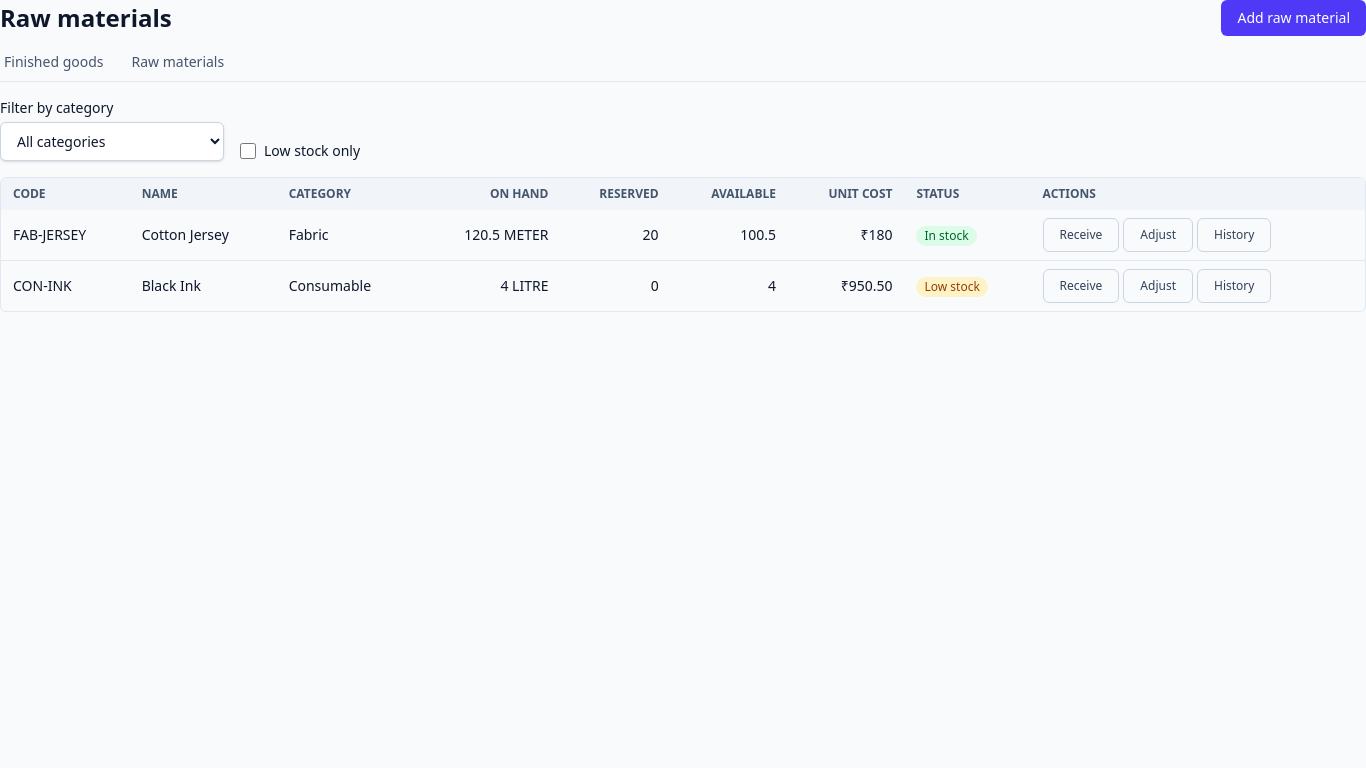
it: RawMaterialsPage › shows a duplicate-code conflict from the server inside the form
Click the button "Add raw material" at (1294, 18), box x1=1221 y1=0 x2=1365 y2=36
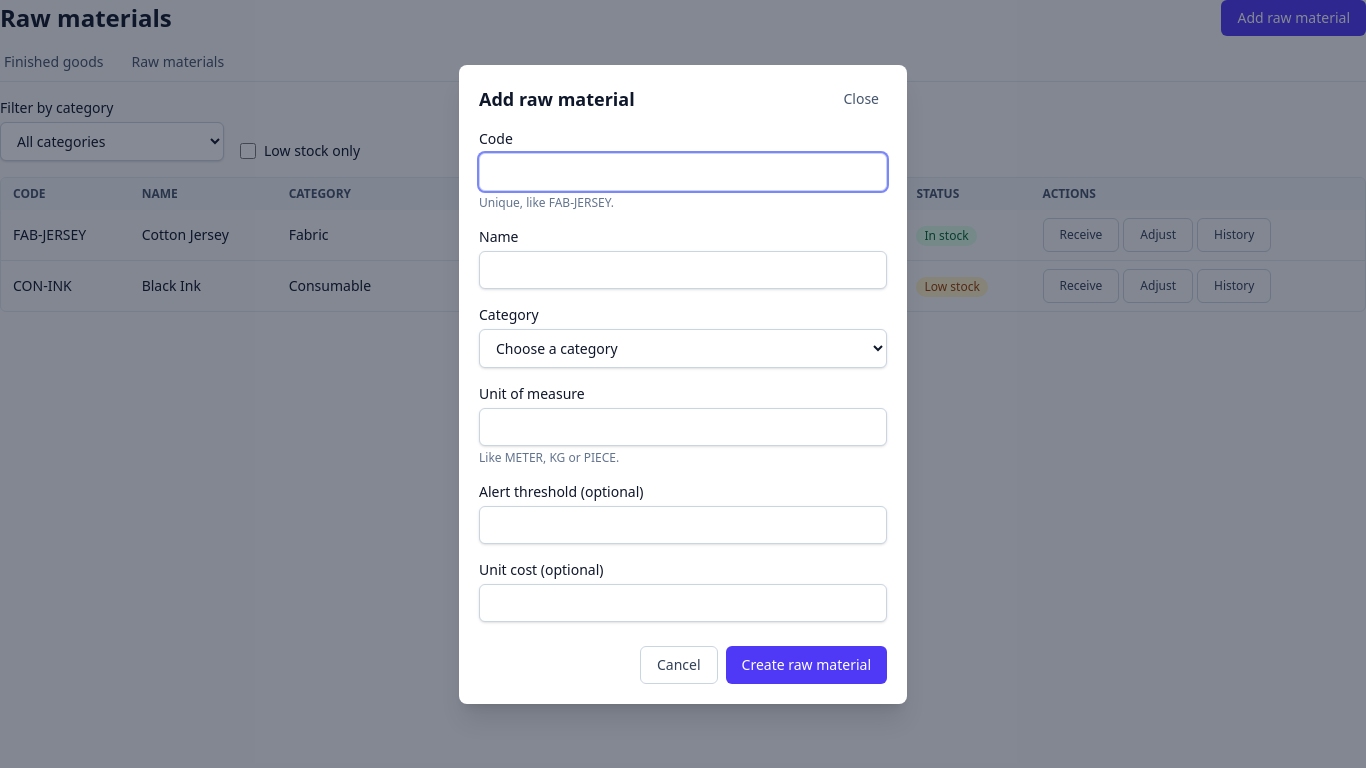
Type "FAB-JERSEY" into the field labelled "Code" at (683, 172), box x1=479 y1=152 x2=887 y2=190
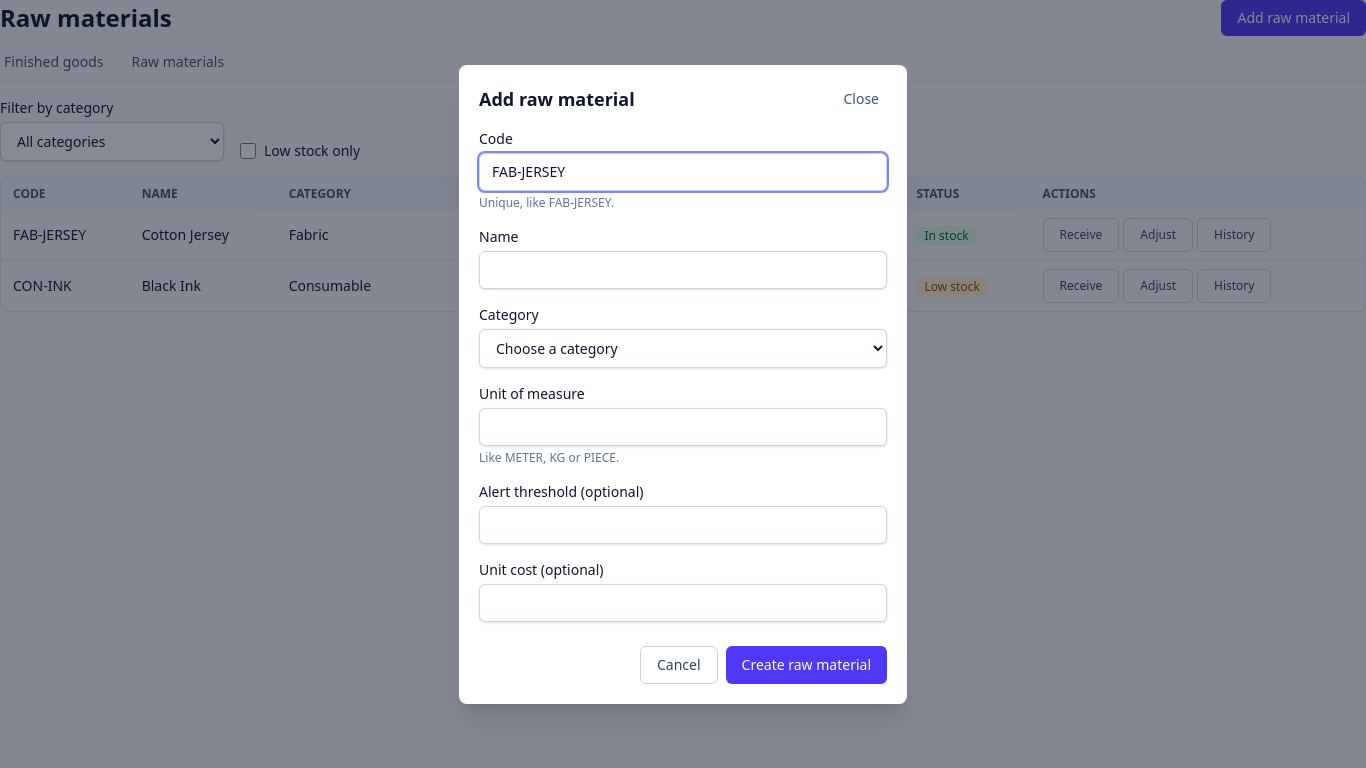
Type "Jersey again" into the field labelled "Name" at (683, 270), box x1=479 y1=250 x2=887 y2=288
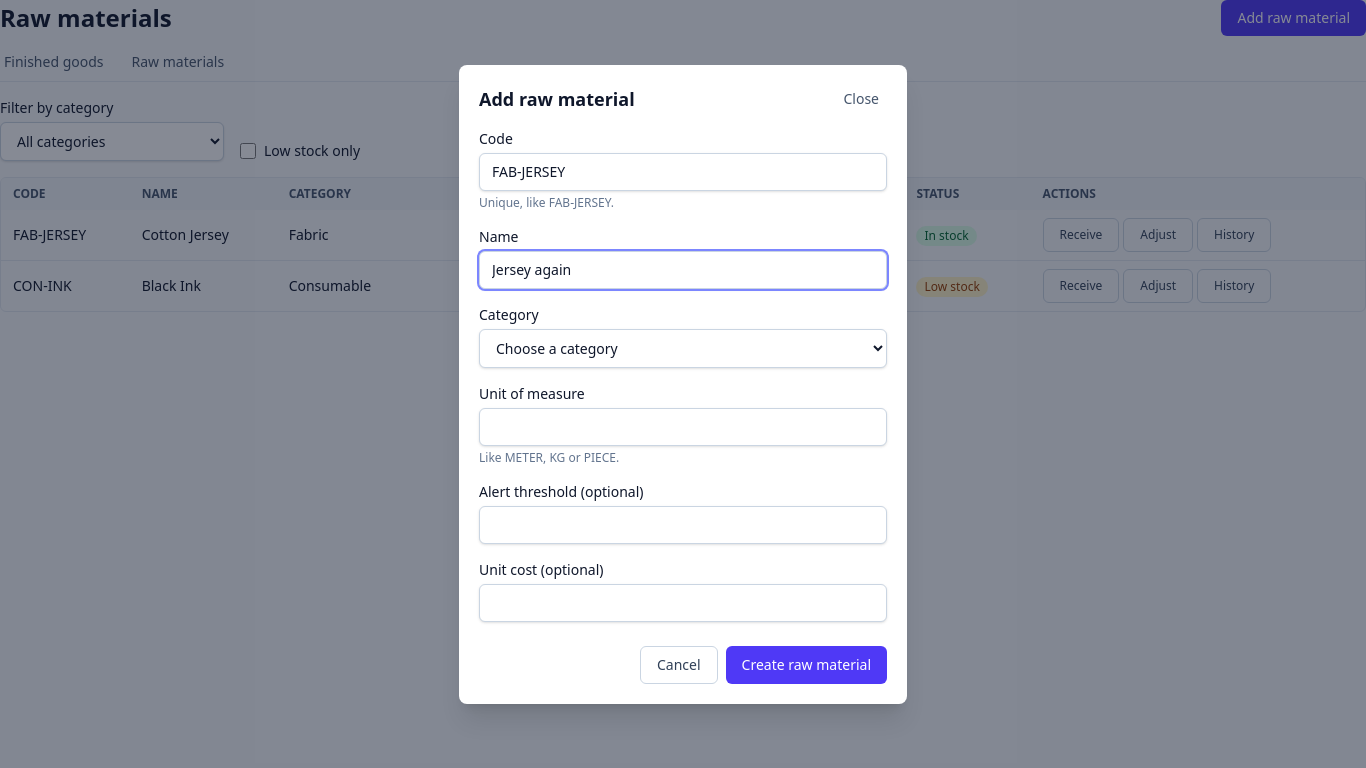
Select "Fabric" in the dropdown labelled "Category" at (683, 348), box x1=479 y1=328 x2=887 y2=368
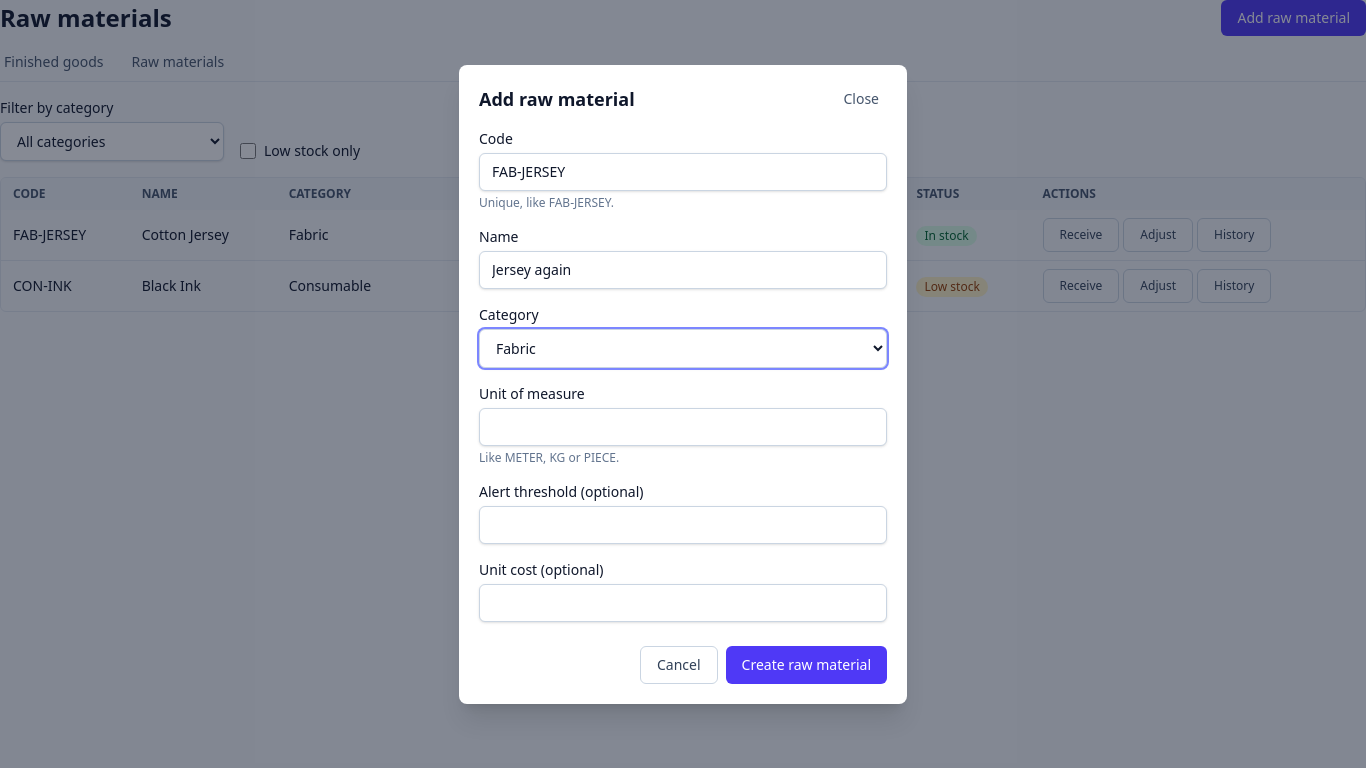
Type "METER" into the field labelled "Unit of measure" at (683, 426), box x1=479 y1=408 x2=887 y2=446
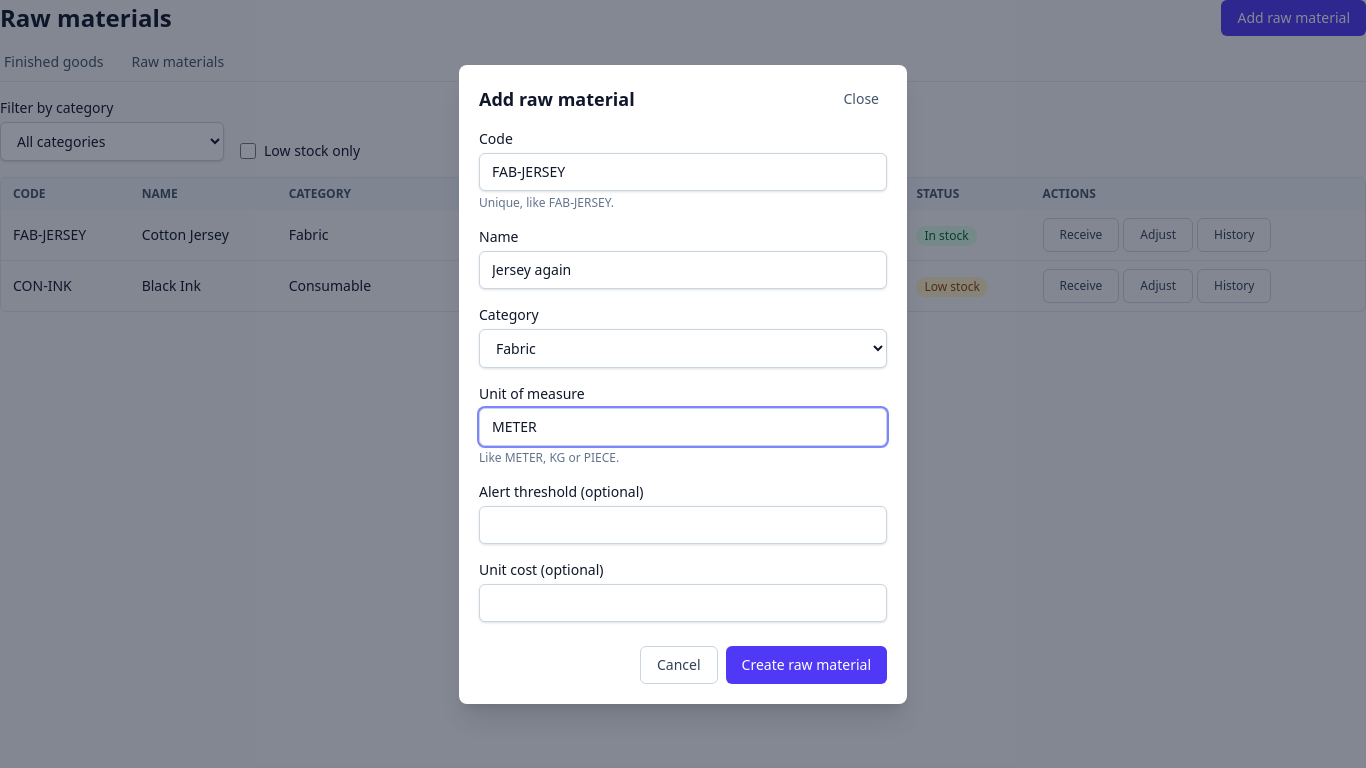
Click the button "Create raw material" at (806, 664), box x1=726 y1=646 x2=887 y2=684
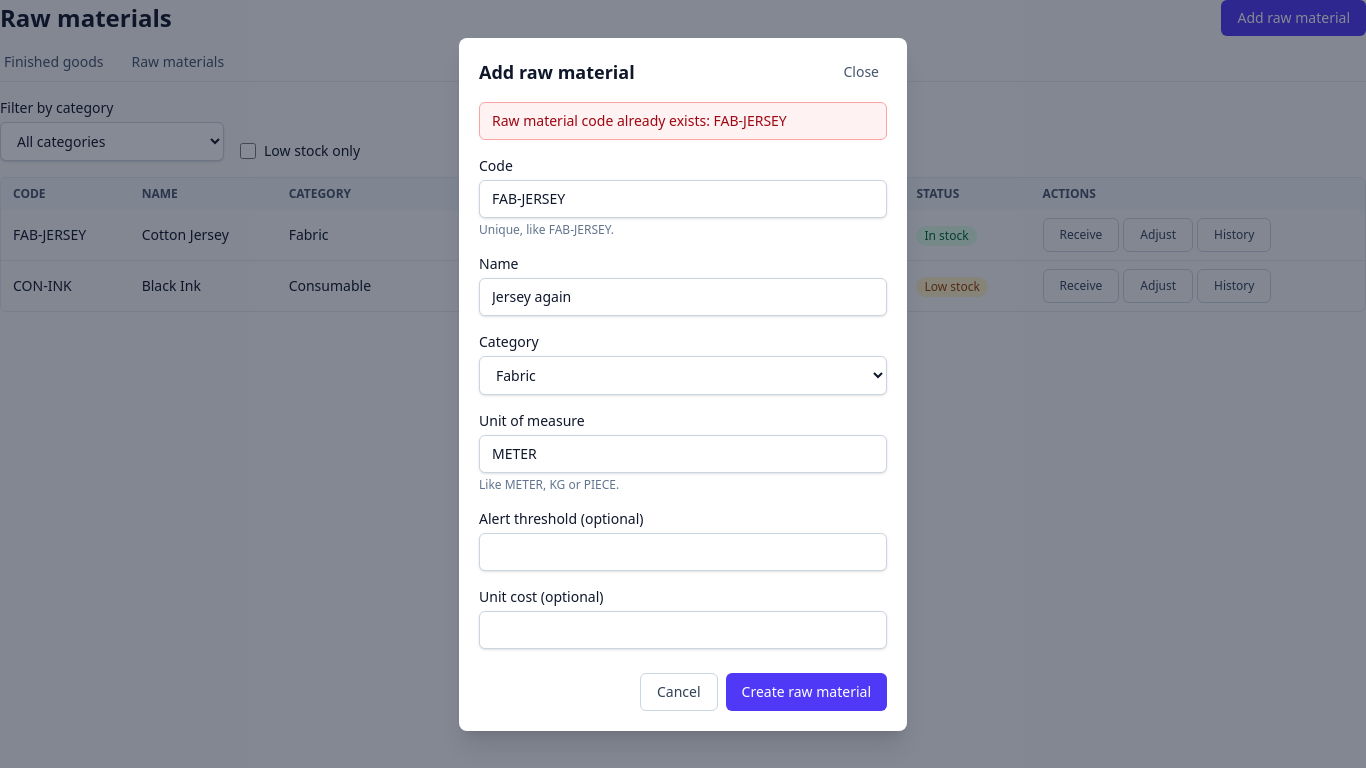
Now the message shows "already exists", box x1=492 y1=110 x2=787 y2=130
